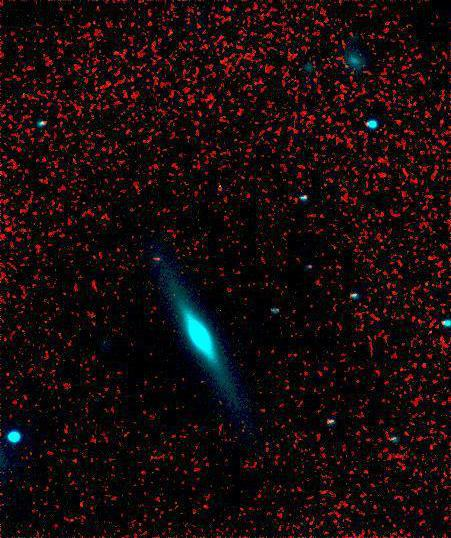star: (199, 294, 229, 324)
